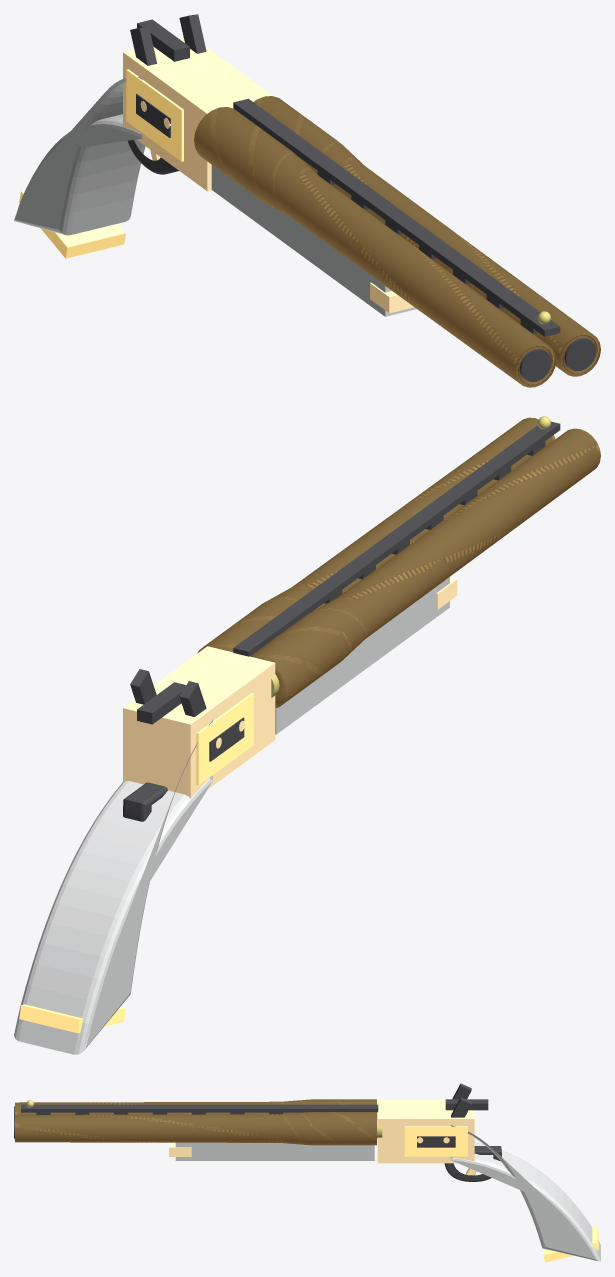
The model's file is double_barrel_shotgun (1).glb.
The picture shows the model from 3 angles, top to bottom: view 1: azimuth 30°, elevation 25°; view 2: azimuth 150°, elevation 25°; view 3: azimuth 270°, elevation 25°; orthographic projection. The views are drawn at different scales.
Parts seen in each view (by area): view 1: Shotgun_Barrels_metalPrimary, Shotgun_Receiver_wood, Shotgun_Barrels_metalDark, Shotgun_Receiver_metalChrome, Shotgun_Barrels_wood, Shotgun_Receiver_accent, Shotgun_Receiver_metalDark, BreakLever_metalDark, HammerL_metalDark, HammerR_metalDark, Shotgun_Barrels_metalChrome; view 2: Shotgun_Barrels_metalPrimary, Shotgun_Receiver_wood, Shotgun_Receiver_metalChrome, Shotgun_Barrels_metalDark, Shotgun_Barrels_wood, Shotgun_Receiver_accent, Shotgun_Receiver_metalDark, BreakLever_metalDark; view 3: Shotgun_Barrels_metalPrimary, Shotgun_Receiver_wood, Shotgun_Receiver_metalChrome, Shotgun_Barrels_metalDark, Shotgun_Barrels_wood, Shotgun_Receiver_accent, Shotgun_Receiver_metalDark, BreakLever_metalDark, HammerR_metalDark, Shotgun_Barrels_metalChrome.
Boxes of the visible parts, x1,y1,x2,y2 form: Shotgun_Barrels_metalPrimary: [194, 96, 600, 387]; Shotgun_Receiver_wood: [14, 77, 145, 235]; Shotgun_Barrels_metalDark: [233, 98, 595, 381]; Shotgun_Receiver_metalChrome: [123, 37, 273, 191]; Shotgun_Barrels_wood: [211, 165, 416, 316]; Shotgun_Receiver_accent: [19, 69, 183, 258]; Shotgun_Receiver_metalDark: [127, 94, 178, 174]; BreakLever_metalDark: [137, 19, 189, 61]; HammerL_metalDark: [130, 26, 156, 65]; HammerR_metalDark: [179, 14, 206, 53]; Shotgun_Barrels_metalChrome: [370, 282, 413, 313]; Shotgun_Barrels_metalPrimary: [197, 417, 600, 708]; Shotgun_Receiver_wood: [14, 720, 212, 1054]; Shotgun_Receiver_metalChrome: [123, 646, 275, 798]; Shotgun_Barrels_metalDark: [233, 421, 560, 656]; Shotgun_Barrels_wood: [275, 577, 449, 734]; Shotgun_Receiver_accent: [19, 693, 253, 1033]; Shotgun_Receiver_metalDark: [123, 717, 244, 821]; BreakLever_metalDark: [137, 682, 186, 724]; Shotgun_Barrels_metalPrimary: [15, 1099, 376, 1145]; Shotgun_Receiver_wood: [450, 1125, 600, 1261]; Shotgun_Receiver_metalChrome: [377, 1100, 476, 1175]; Shotgun_Barrels_metalDark: [14, 1104, 378, 1138]; Shotgun_Barrels_wood: [175, 1142, 374, 1160]; Shotgun_Receiver_accent: [404, 1126, 598, 1262]; Shotgun_Receiver_metalDark: [417, 1136, 501, 1181]; BreakLever_metalDark: [445, 1099, 488, 1110]; HammerR_metalDark: [451, 1097, 471, 1117]; Shotgun_Barrels_metalChrome: [169, 1142, 191, 1156].
Size of the model in its own units: 0.062 by 0.1762 by 0.5754.
Materials: 6 (1 with a texture image).
